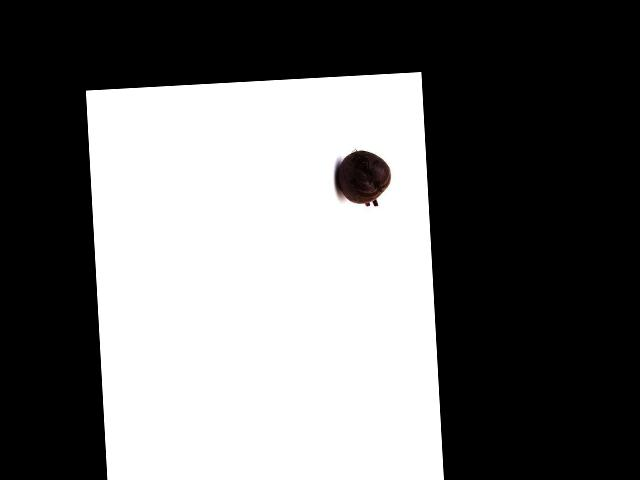beet: (334, 148, 392, 207)
